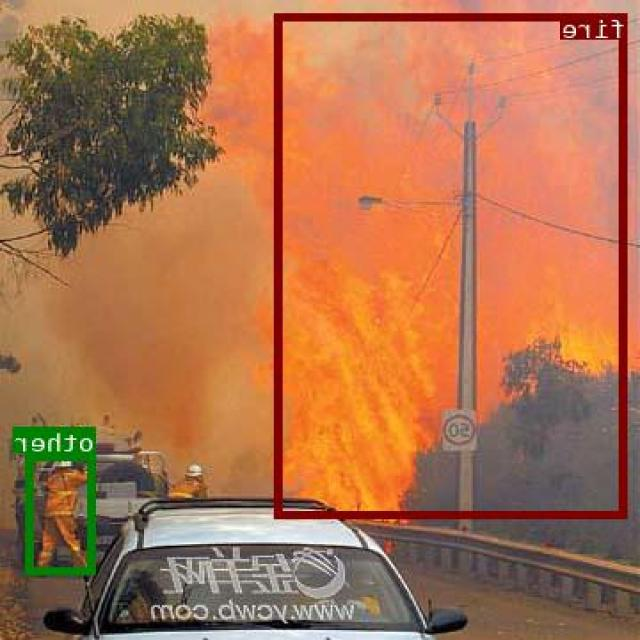fire: (277, 12, 628, 516)
other: (28, 452, 98, 572)
